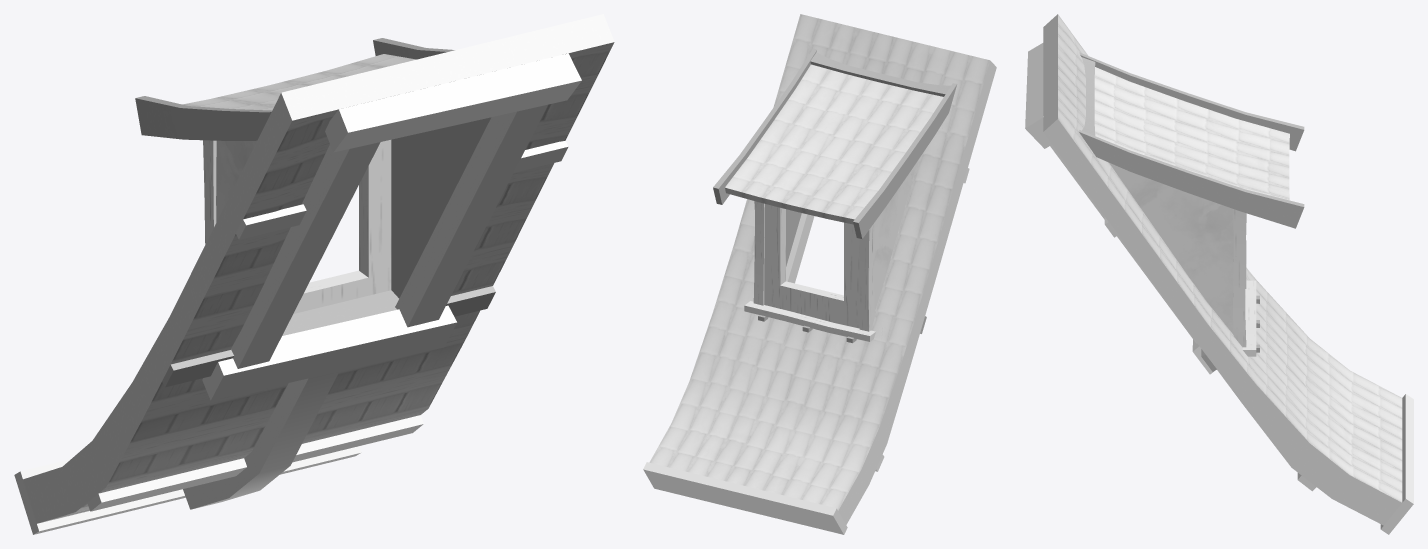
File: ARC0110016.fbx
The picture shows the model from 3 angles, left to right: view 1: azimuth 30°, elevation 25°; view 2: azimuth 150°, elevation 25°; view 3: azimuth 270°, elevation 25°; orthographic projection. The views are drawn at different scales.
Parts seen in each view (by area): view 1: smARC0110016; view 2: smARC0110016; view 3: smARC0110016.
Boxes of the visible parts, x1,y1,x2,y2 form: smARC0110016: [14, 14, 614, 534]; smARC0110016: [643, 14, 996, 534]; smARC0110016: [1025, 14, 1413, 534].
Size of what is drawn, in the model's own units: 191 by 355 by 299.
Materials: 1 (1 with a texture image).
